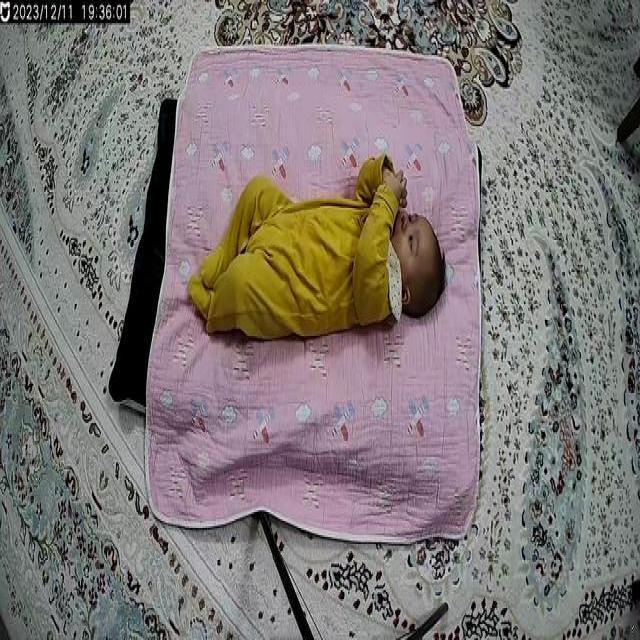baby: (186, 151, 453, 352)
